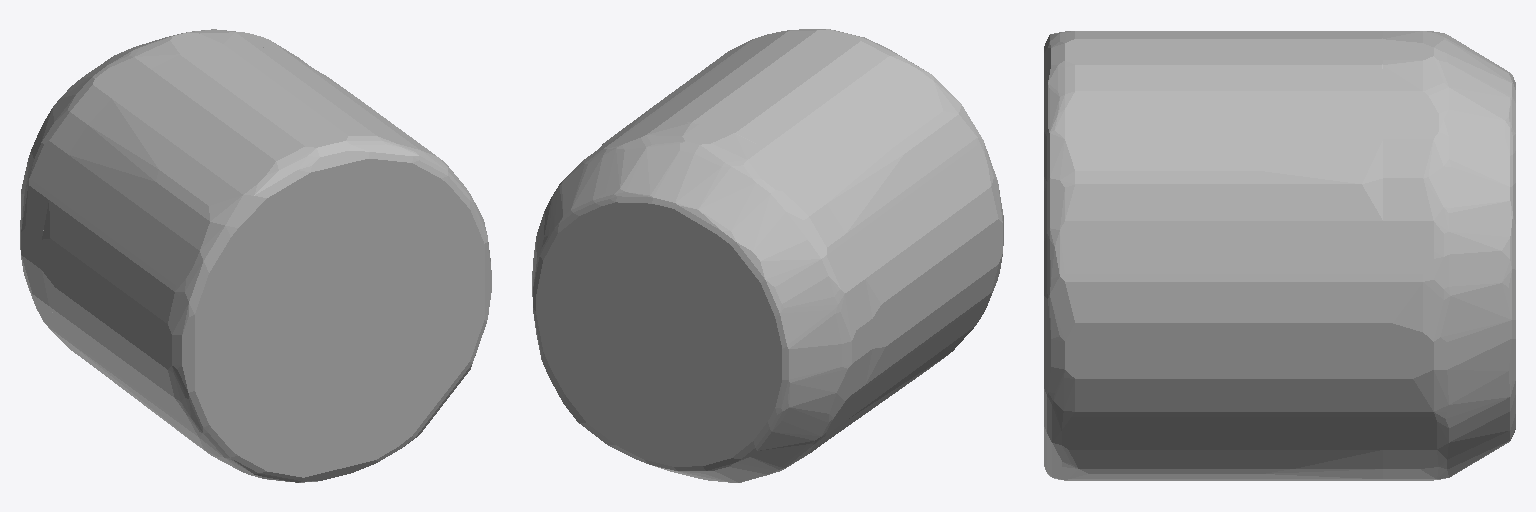
URDF robot description (root):
<robot name="root">
  <link name="link_coacd_convex_piece_0">
    <inertial>
      <origin xyz="0 0 0" rpy="0 0 0"/>
      <inertia ixx="2.05E-01" ixy="-4.10E-05" ixz="-1.48E-04" iyy="2.05E-01" iyz="-2.96E-04" izz="1.19E-01"/>
    </inertial>
    <visual>
      <origin xyz="0 0 0" rpy="0 0 0"/>
      <geometry>
        <mesh filename="coacd_convex_piece_0.obj" scale="1.0000E+00 1.0000E+00 1.0000E+00"/>
      </geometry>
      <material name="">
        <color rgba="7.50E-01 7.50E-01 7.50E-01 1"/>
      </material>
    </visual>
    <collision>
      <origin xyz="0 0 0" rpy="0 0 0"/>
      <geometry>
        <mesh filename="coacd_convex_piece_0.obj" scale="1.0000E+00 1.0000E+00 1.0000E+00"/>
      </geometry>
    </collision>
  </link>
  <link name="link_coacd_convex_piece_1">
    <inertial>
      <origin xyz="0 0 0" rpy="0 0 0"/>
      <inertia ixx="3.91E-01" ixy="-8.74E-06" ixz="-7.96E-05" iyy="3.91E-01" iyz="-6.99E-05" izz="3.76E-01"/>
    </inertial>
    <visual>
      <origin xyz="0 0 0" rpy="0 0 0"/>
      <geometry>
        <mesh filename="coacd_convex_piece_1.obj" scale="1.0000E+00 1.0000E+00 1.0000E+00"/>
      </geometry>
      <material name="">
        <color rgba="7.50E-01 7.50E-01 7.50E-01 1"/>
      </material>
    </visual>
    <collision>
      <origin xyz="0 0 0" rpy="0 0 0"/>
      <geometry>
        <mesh filename="coacd_convex_piece_1.obj" scale="1.0000E+00 1.0000E+00 1.0000E+00"/>
      </geometry>
    </collision>
  </link>
  <joint name="link_coacd_convex_piece_1_joint" type="fixed">
    <origin xyz="0 0 0" rpy="0 0 0"/>
    <parent link="link_coacd_convex_piece_0"/>
    <child link="link_coacd_convex_piece_1"/>
  </joint>
</robot>

--- Render facts (derived) ---
3 views of the same robot in one strip: view 1: azimuth 30°, elevation 25°; view 2: azimuth 150°, elevation 25°; view 3: azimuth 270°, elevation 25° (orthographic).
Robot: root — 2 links, 1 joints (1 fixed); root link link_coacd_convex_piece_0; default pose: all joints at 0.
Links seen in each view (by area): view 1: link_coacd_convex_piece_1, link_coacd_convex_piece_0; view 2: link_coacd_convex_piece_0, link_coacd_convex_piece_1; view 3: link_coacd_convex_piece_1, link_coacd_convex_piece_0.
Boxes of the visible links, x1,y1,x2,y2 form: link_coacd_convex_piece_1: [42, 44, 491, 482]; link_coacd_convex_piece_0: [20, 29, 310, 361]; link_coacd_convex_piece_0: [532, 123, 872, 482]; link_coacd_convex_piece_1: [600, 29, 1003, 439]; link_coacd_convex_piece_1: [1044, 31, 1382, 480]; link_coacd_convex_piece_0: [1383, 31, 1515, 480].
Size in the robot's own frame: 1.41 by 1.47 by 1.41 metres.
2 mesh visuals loaded from 2 distinct referenced files (2 OBJ).
